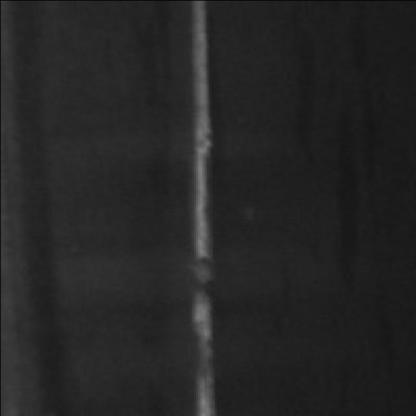scratches: (181, 2, 218, 416)
